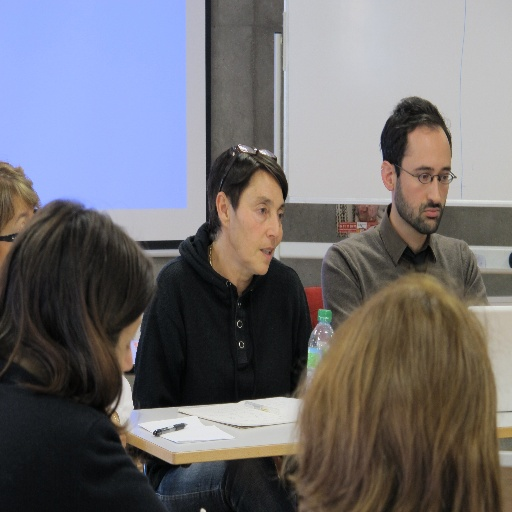hand: (111, 419, 126, 447)
